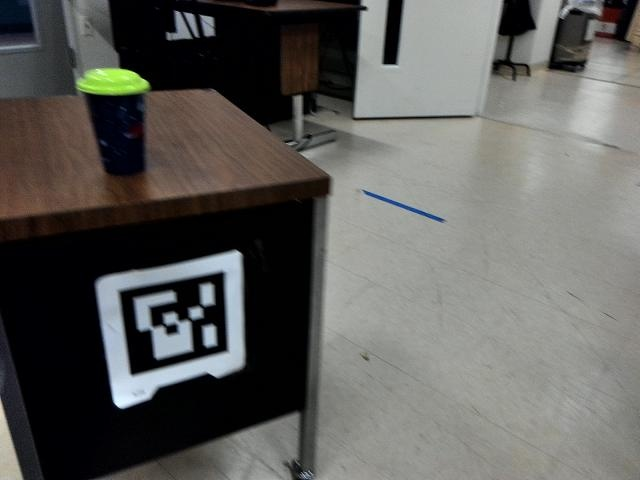useless_cup: (74, 62, 158, 176)
